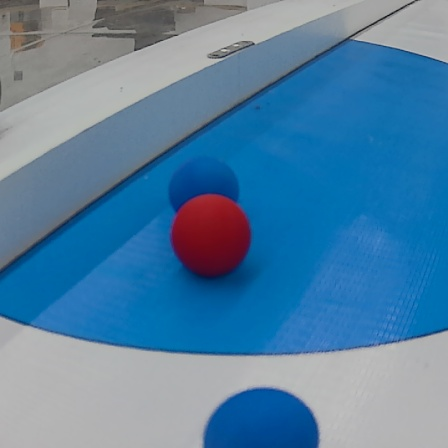blue: (192, 383, 324, 448), (161, 153, 242, 219)
blue_base: (0, 35, 447, 358)
red: (172, 192, 255, 279)
